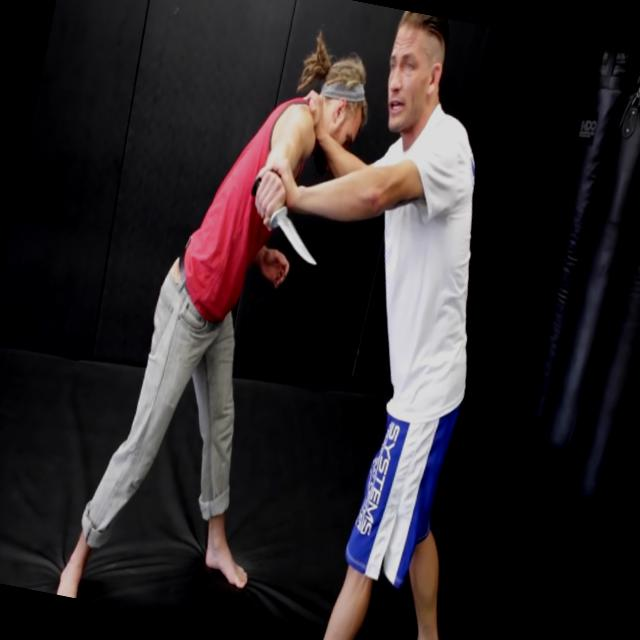knife: (230, 160, 338, 272)
